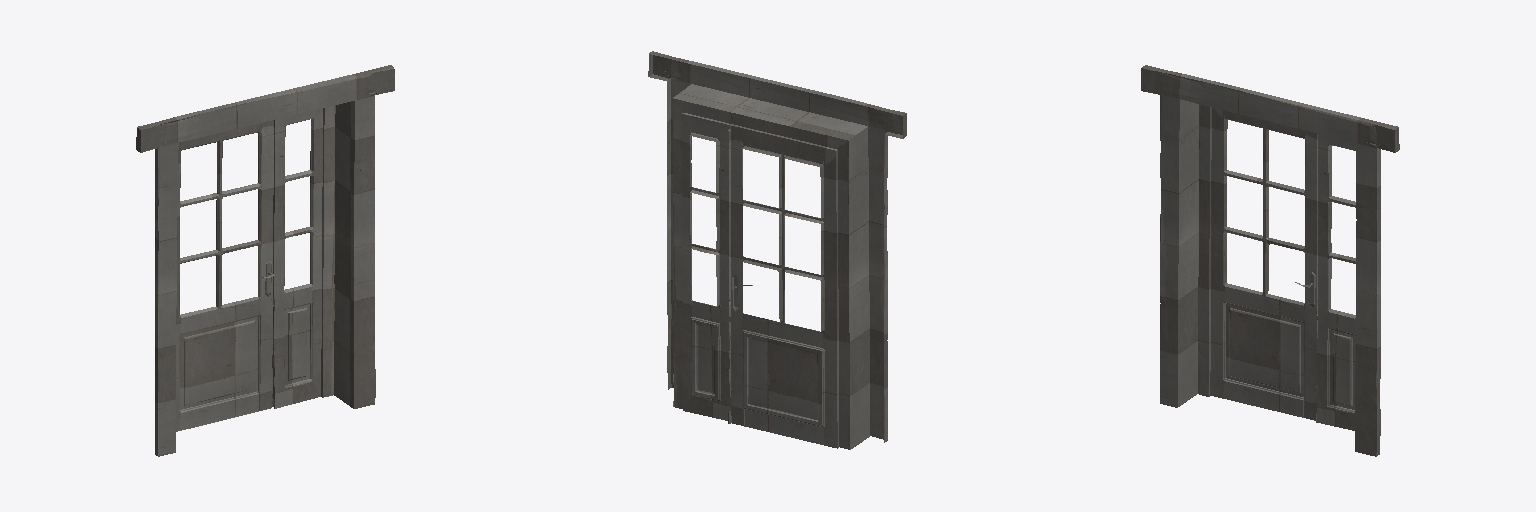
The picture shows the model from 3 angles: view 1: azimuth 30°, elevation 25°; view 2: azimuth 150°, elevation 25°; view 3: azimuth 330°, elevation 25°; orthographic projection.
Size of the model in its own units: 2 by 2.5 by 0.3199.
Materials: 1 (1 with a texture image).